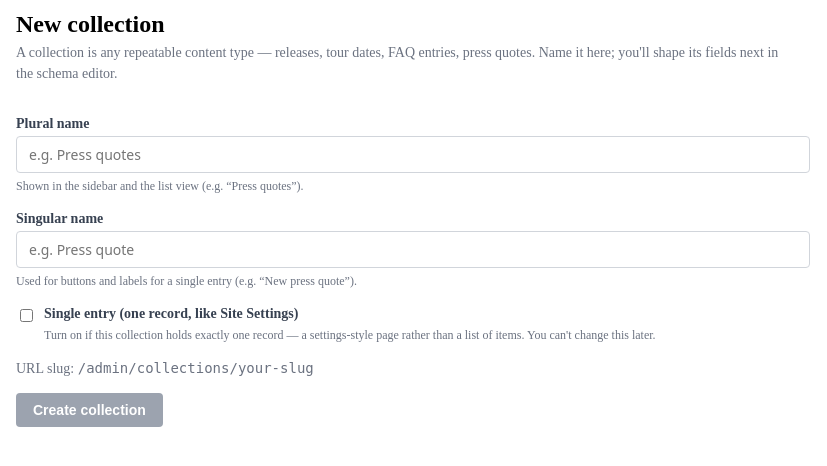
<NewCollectionForm /> client-side slug validation › clears the error and enables submit once the plural name yields a valid slug
The width and height of the screenshot is (827, 466).
Type "!!!" into the field labelled "Plural name". click: (413, 154)
box: [16, 136, 810, 173]
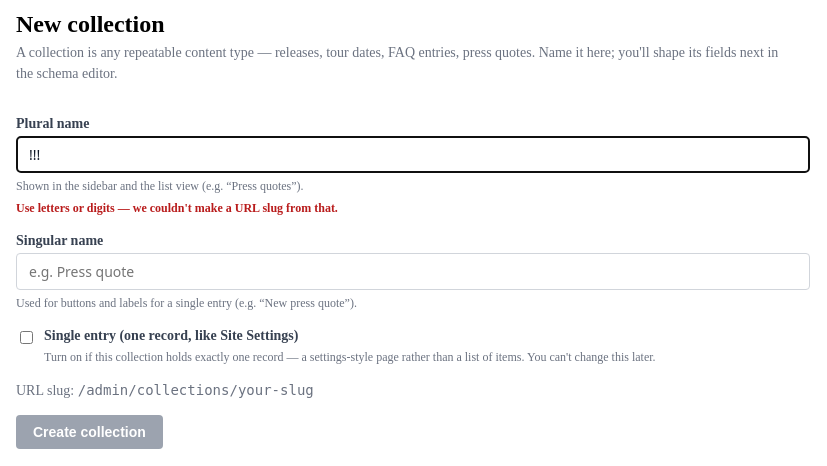
Expected: the message shows "couldn't make a URL slug", [16, 201, 338, 215]
Replace the text in the field labelled "Plural name" with "Press quotes". click: (413, 154)
box: [16, 136, 810, 173]
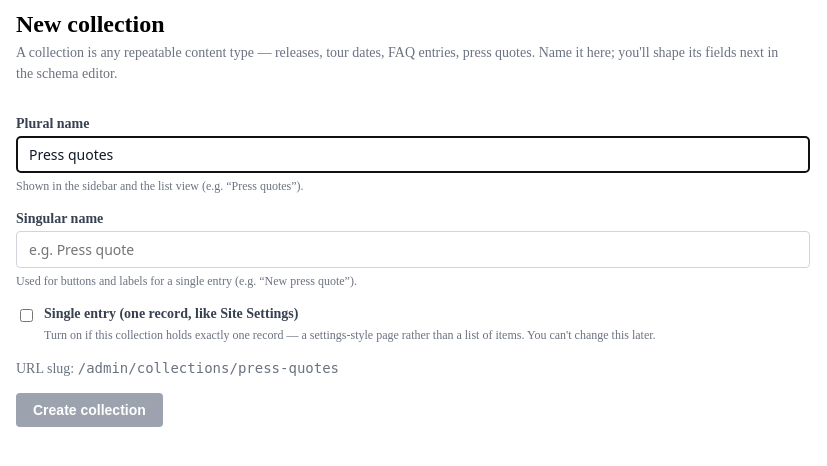
Type "Press quote" into the field labelled "Singular name". click: (413, 250)
box: [16, 231, 810, 268]
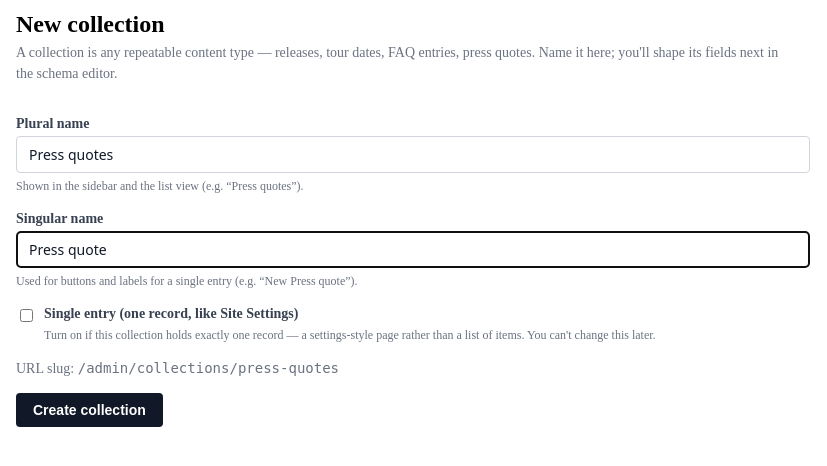
Expected: the message "Use letters or digits — we couldn't make a URL slug from that." is not shown
Expected: the button "Create collection" is enabled, [16, 393, 163, 427]
